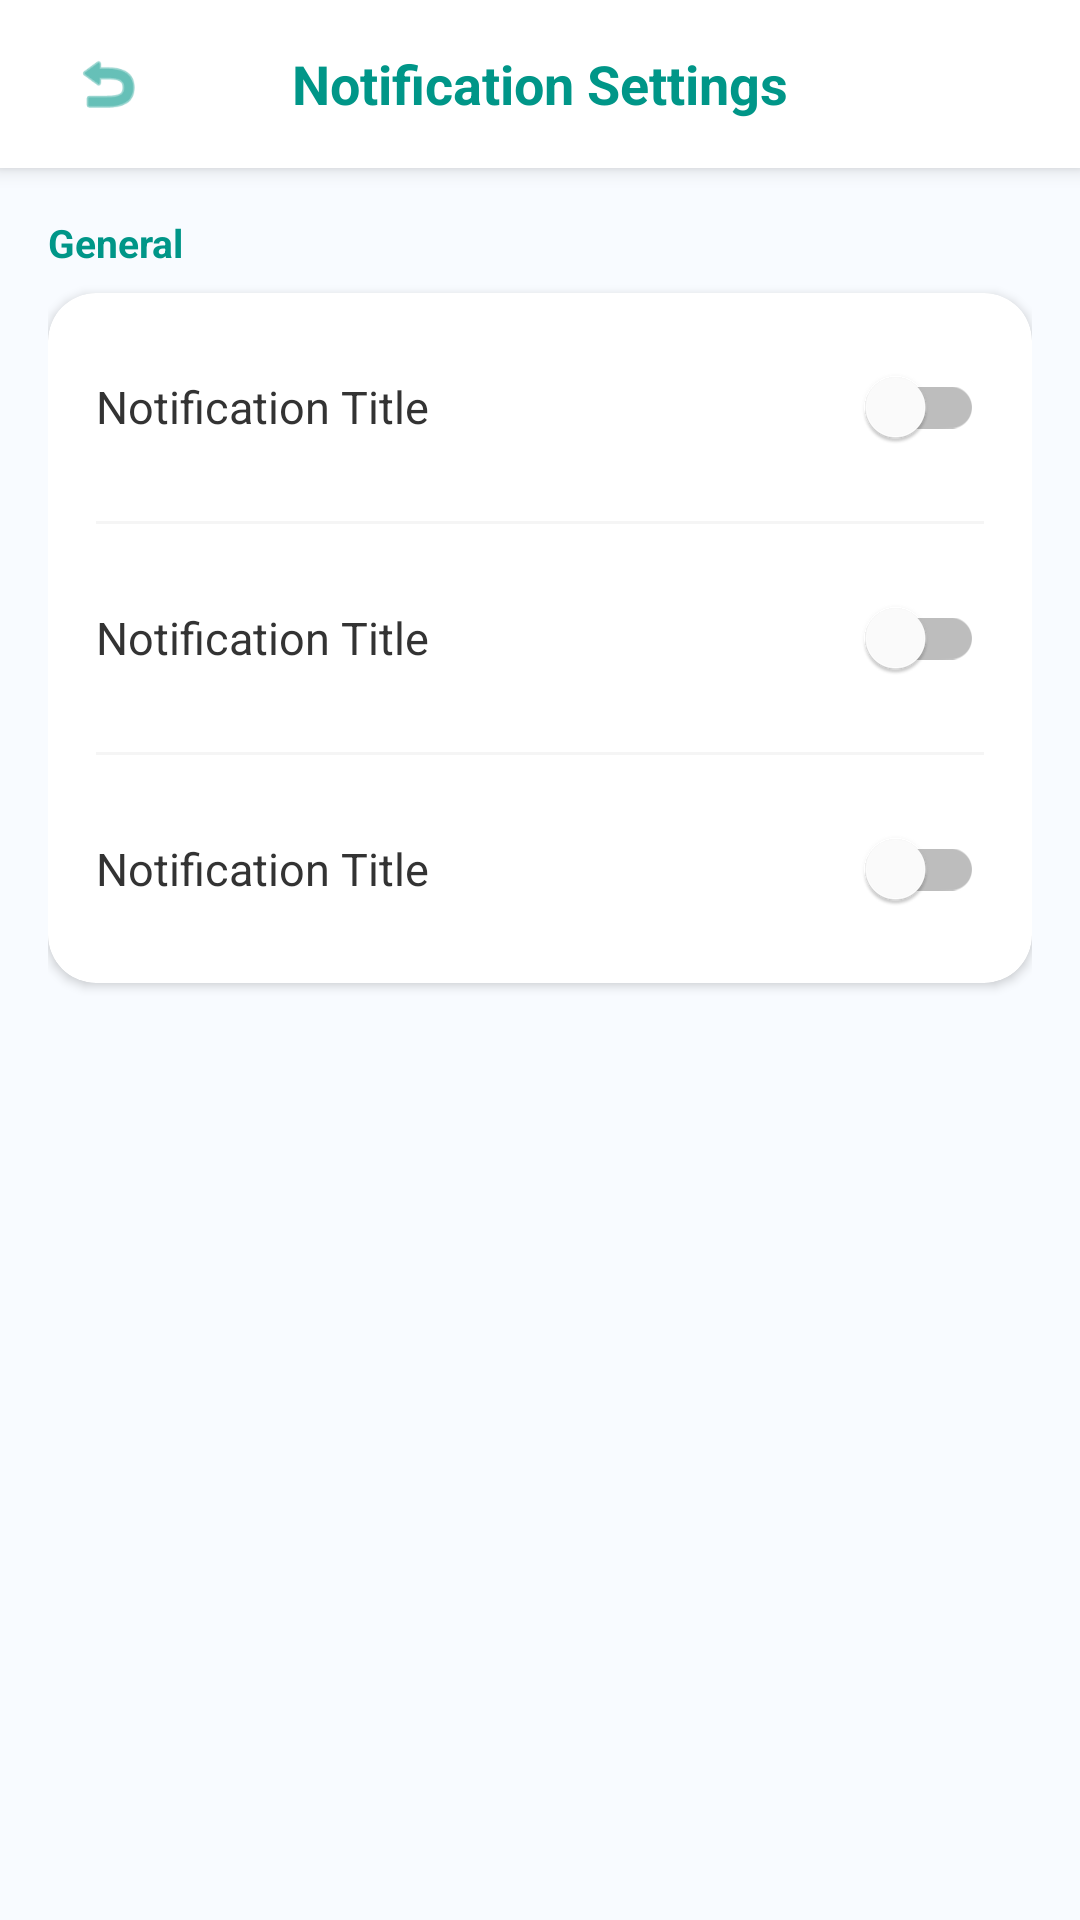

Where to tap for icons on this 1080×1920 app screen, as (x=x, y=y):
revert: (x=109, y=84)
